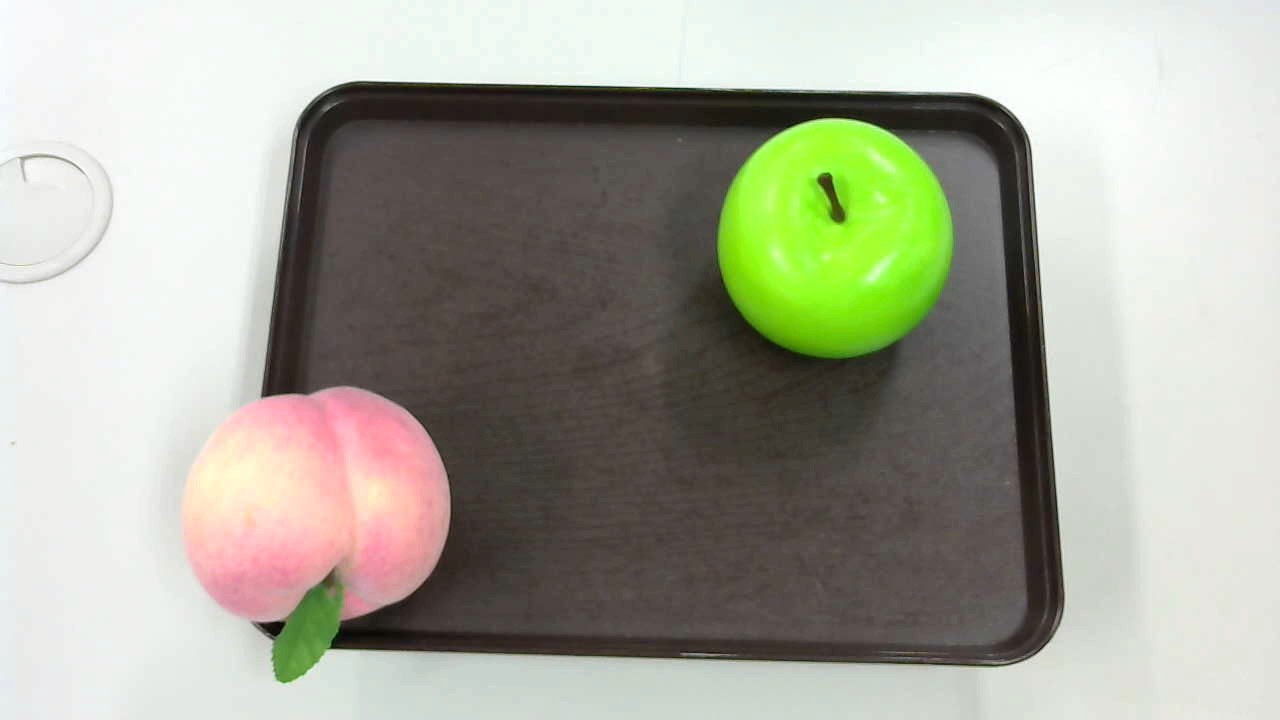green apple: (710, 118, 954, 362)
peach: (179, 381, 454, 681)
